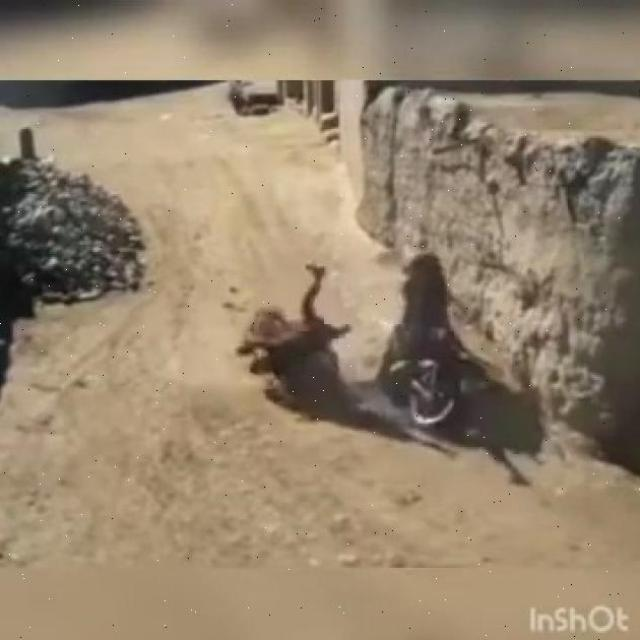accident: (221, 257, 379, 393), (381, 237, 463, 429)
